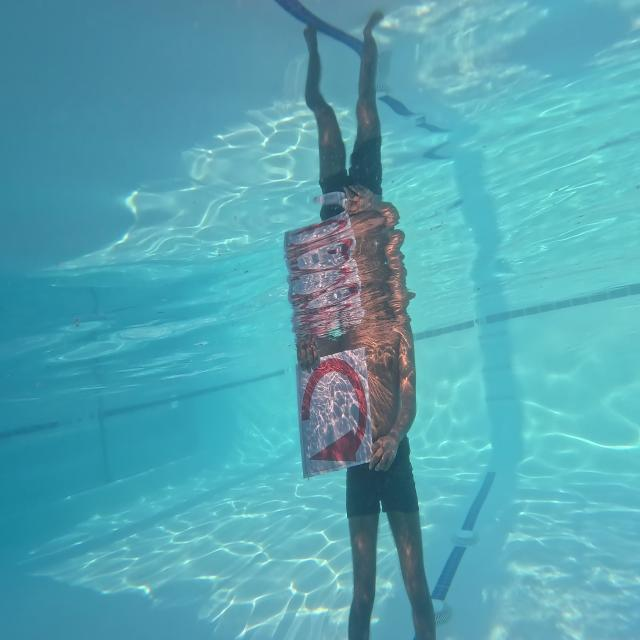red_side: (288, 350, 378, 479)
